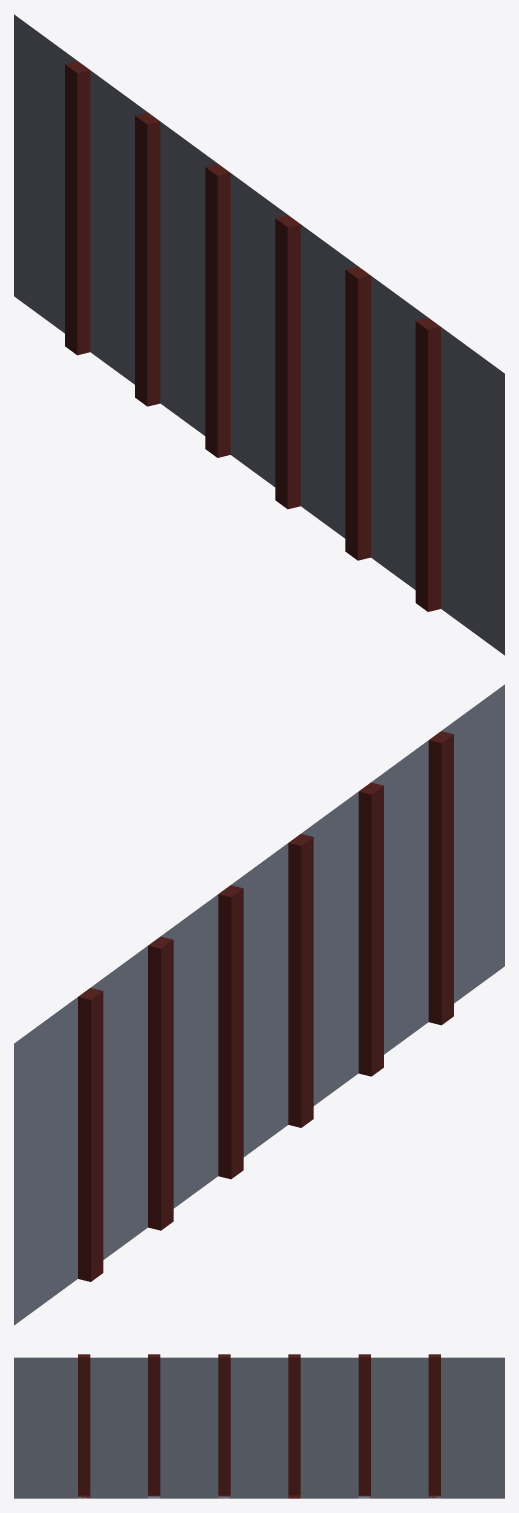
File: Separate wall.fbx
The picture shows the model from 3 angles, top to bottom: view 1: azimuth 30°, elevation 25°; view 2: azimuth 150°, elevation 25°; view 3: azimuth 270°, elevation 25°; orthographic projection. The views are drawn at different scales.
Visible parts, largest first — view 1: Cube.006; view 2: Cube.006; view 3: Cube.006.
Part boxes in pixels (bbox=[...]): Cube.006: bbox=[14, 14, 504, 655]; Cube.006: bbox=[14, 684, 504, 1325]; Cube.006: bbox=[14, 1354, 504, 1498].
Size of the model in its own units: 24.32 by 504 by 1590.
